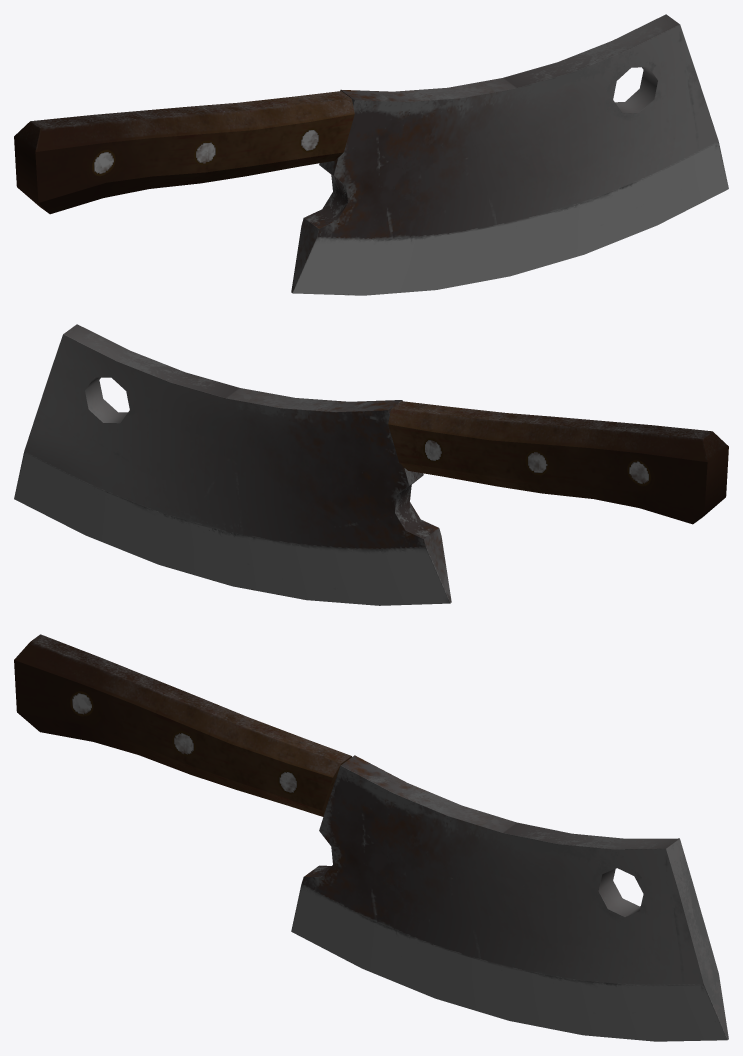
The model's file is Cleaver2_Ready.fbx.
3 views of the same model, one above another, from view 1: azimuth 30°, elevation 25°; view 2: azimuth 150°, elevation 25°; view 3: azimuth 330°, elevation 25° (orthographic).
Visible parts, largest first — view 1: Cleaver2_Handle_low; view 2: Cleaver2_Handle_low; view 3: Cleaver2_Handle_low.
Part boxes in pixels (bbox=[...]): Cleaver2_Handle_low: bbox=[14, 14, 728, 295]; Cleaver2_Handle_low: bbox=[14, 324, 728, 605]; Cleaver2_Handle_low: bbox=[14, 634, 728, 1041].
Size of the model in its own units: 75.96 by 27.5 by 4.11.
